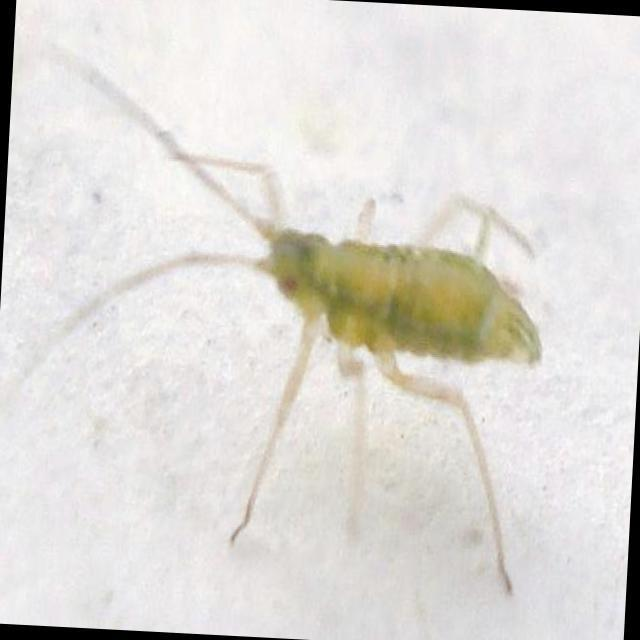aphid: (46, 56, 578, 607)
